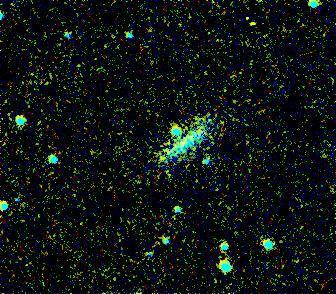star: (235, 9, 265, 39)
